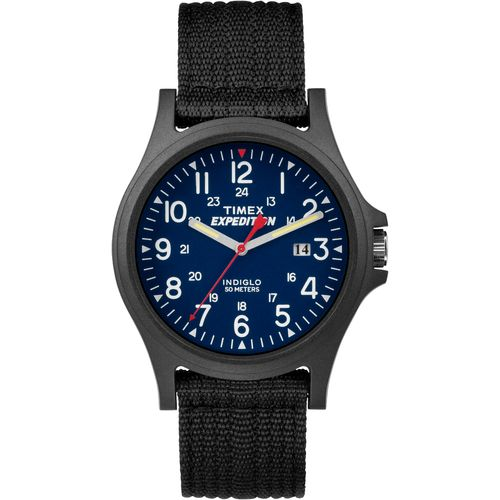clock: (111, 117, 375, 380)
